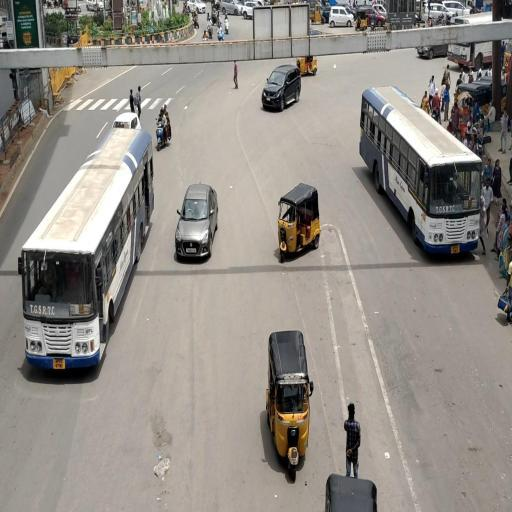helmet: (155, 98, 172, 150)
